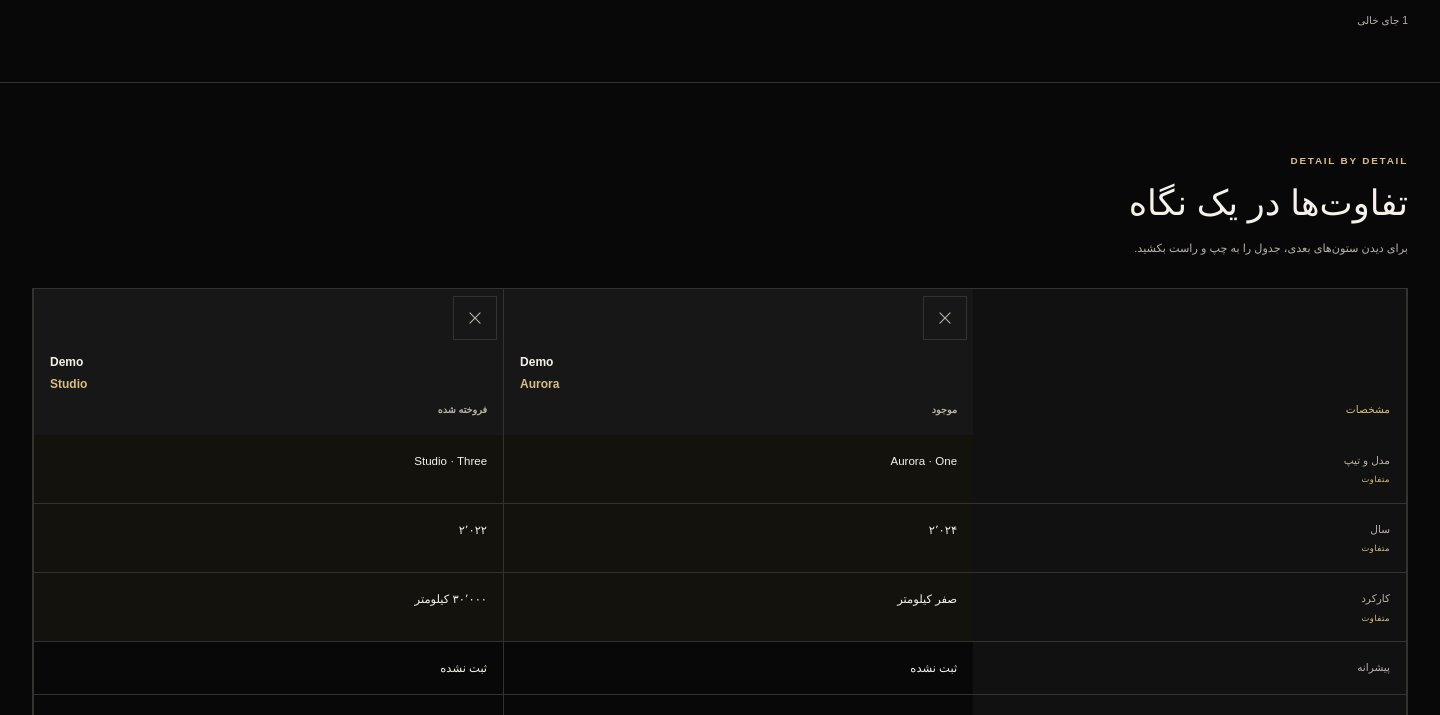
CompareExperience › renders a complete comparison and removes a selected vehicle
The image size is (1440, 715).
(page scrolled)
Expected: the column heading "مدل و تیپ متفاوت" is shown, [973,434,1407,504]
What coordinates should you click on to do the following:
click the button named "حذف Demo Aurora"
I would click on:
 (945, 318)
Its box is [923,296,967,340].
(page scrolled)
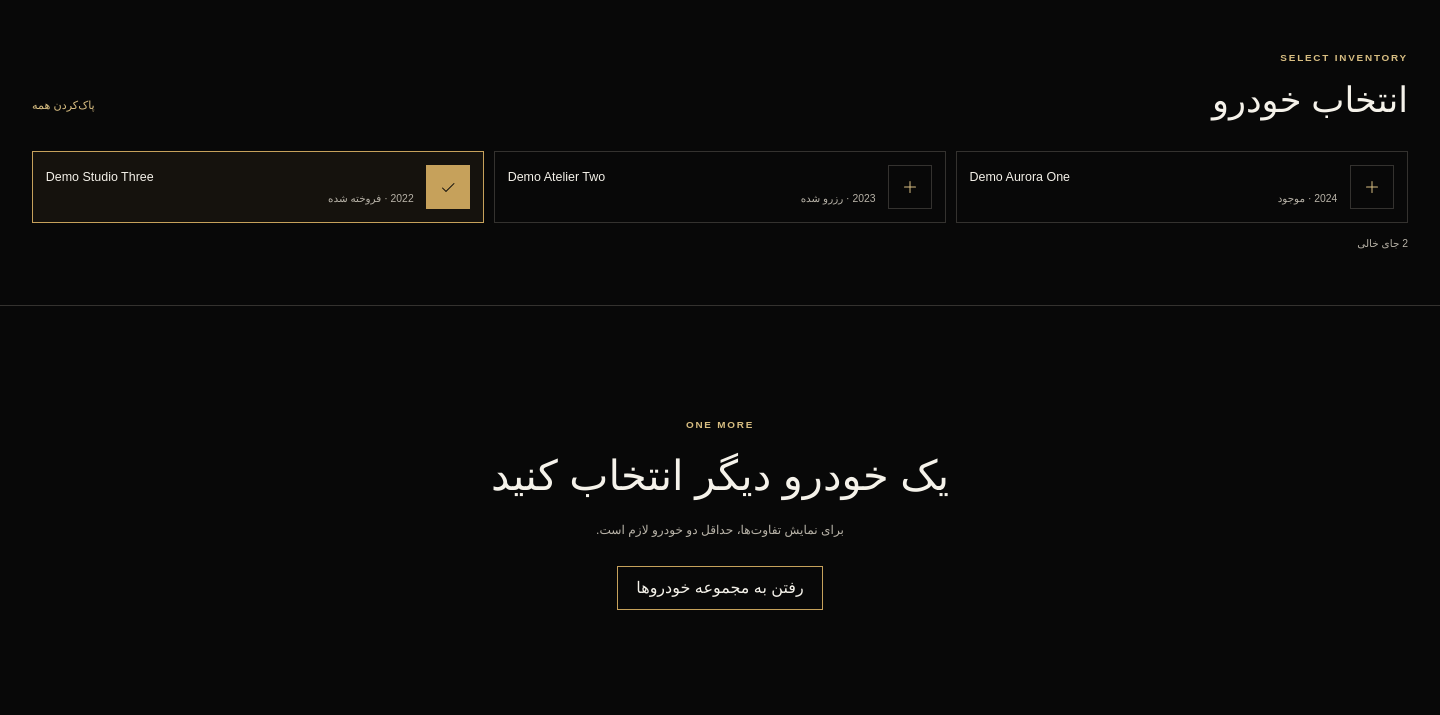
Now the heading "یک خودرو دیگر انتخاب کنید" is shown, box [491,445,949,508]
